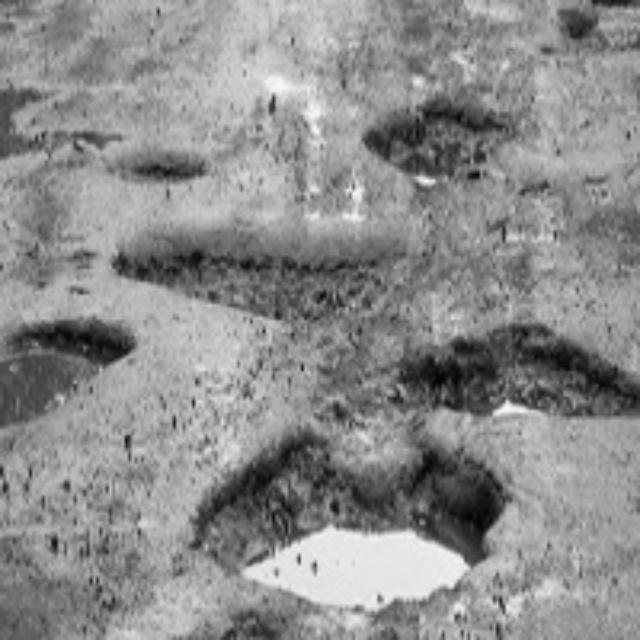Pothole: (264, 420, 446, 612), (426, 322, 610, 431), (169, 229, 329, 341), (30, 302, 140, 398), (369, 100, 483, 175), (114, 150, 206, 194)
